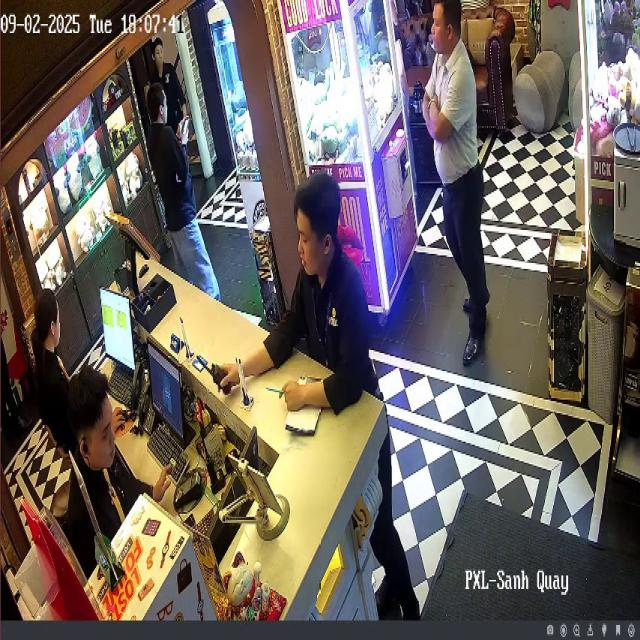khach: (419, 0, 522, 383), (144, 73, 231, 338)
nhan vien: (275, 160, 427, 632), (69, 351, 174, 593), (26, 284, 81, 465), (146, 34, 178, 99)
